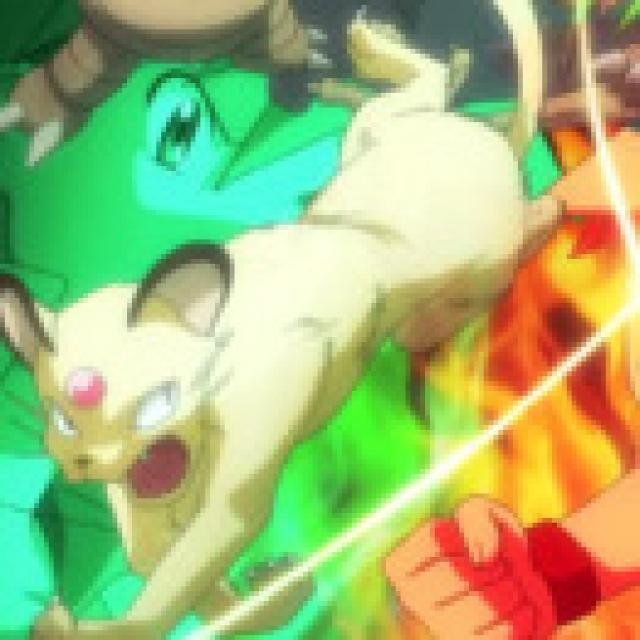Persian: (29, 93, 533, 635)
